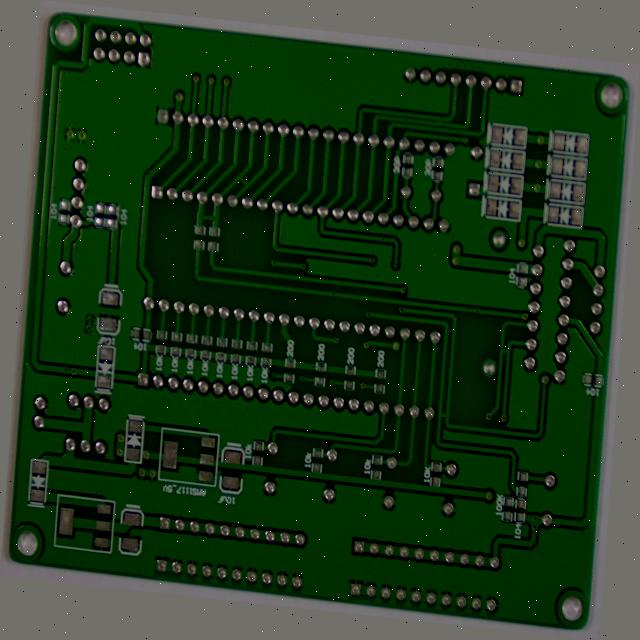short: (177, 212, 208, 227), (218, 167, 237, 185), (509, 323, 526, 340), (423, 76, 439, 94), (450, 403, 466, 418)
